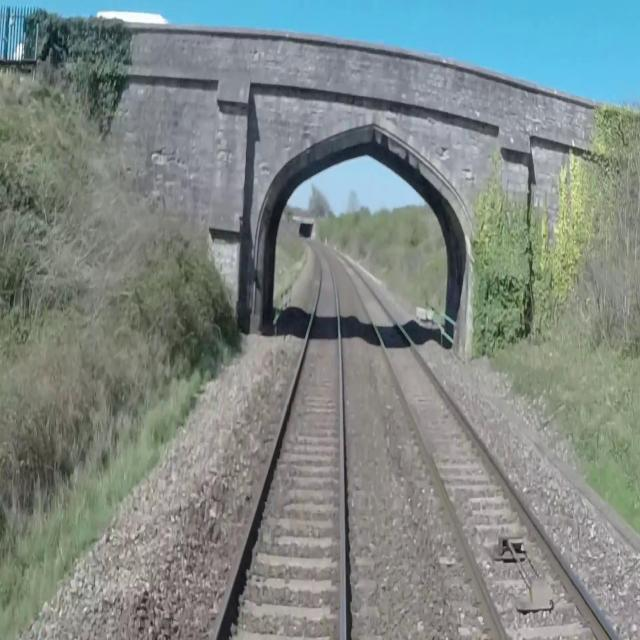rail-track: (318, 243, 611, 639), (215, 239, 340, 639)
